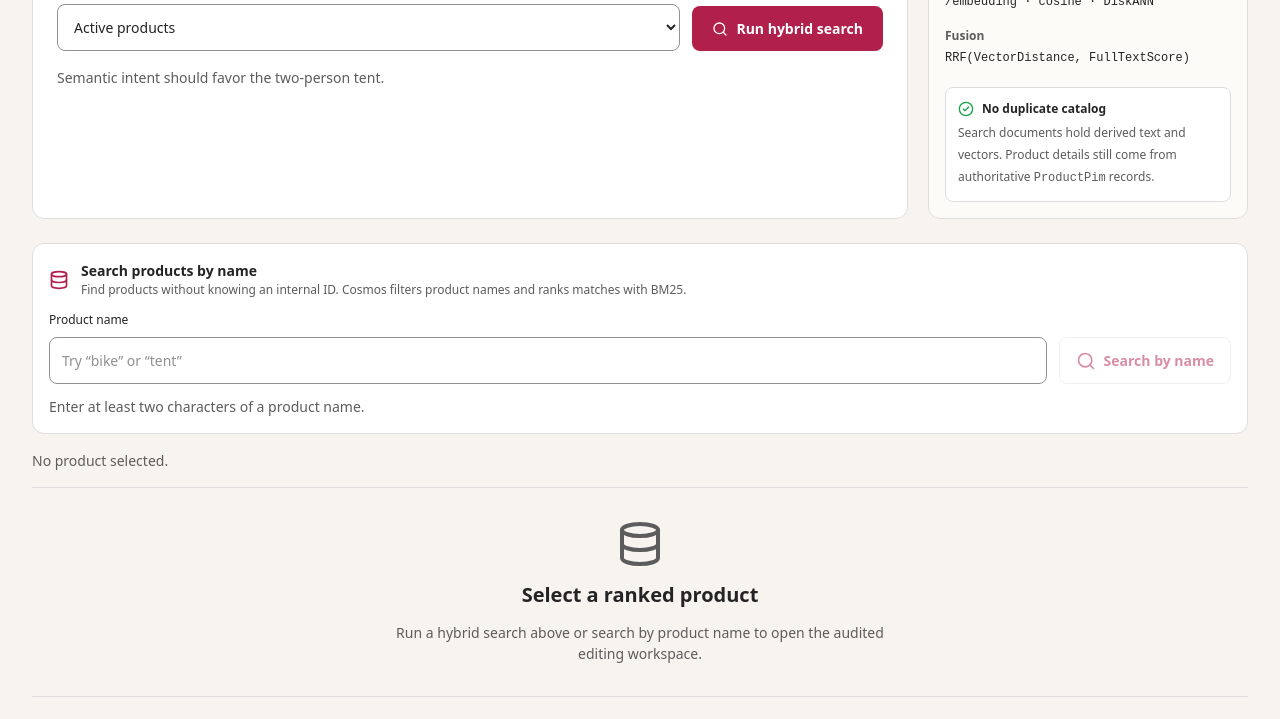
App › blocks editing on a version conflict until an authoritative reload
This screenshot has width=1280, height=719.
(page scrolled)
Type "Test product" into the field labelled "Product name" at {"x": 548, "y": 360}, box [49, 337, 1047, 384]
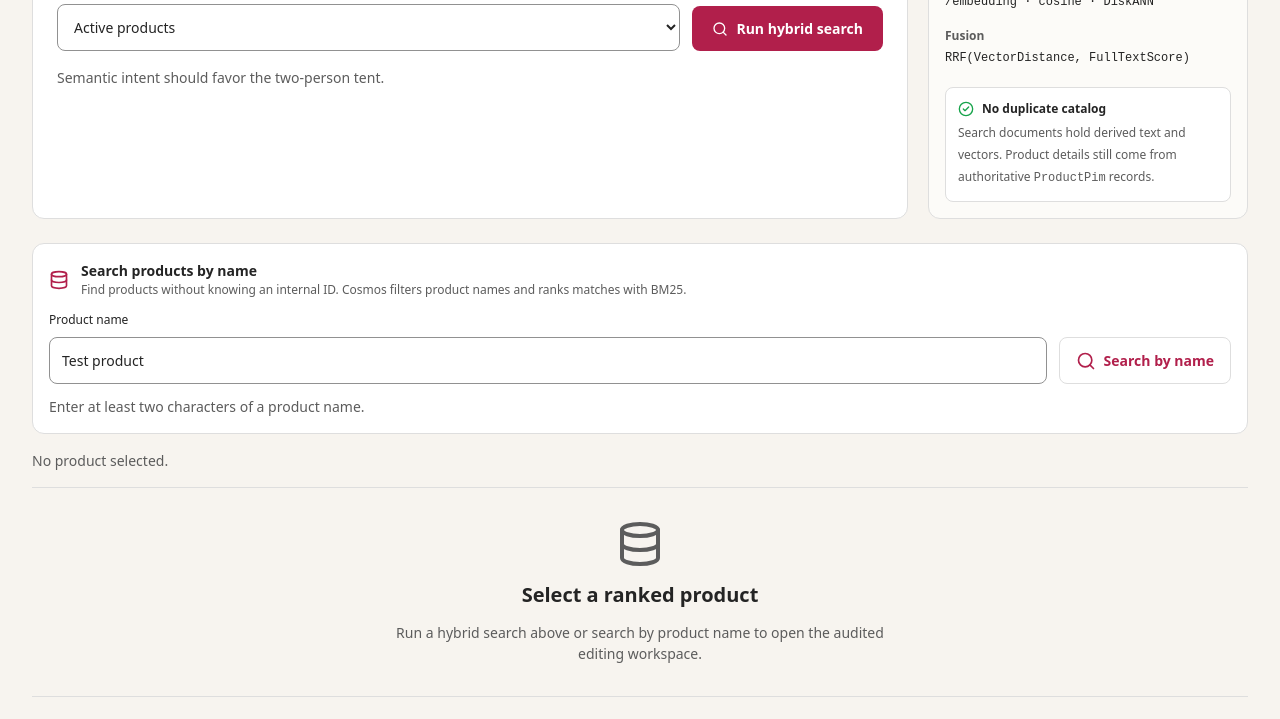
Submit the form "Product name", box [49, 311, 1231, 384]
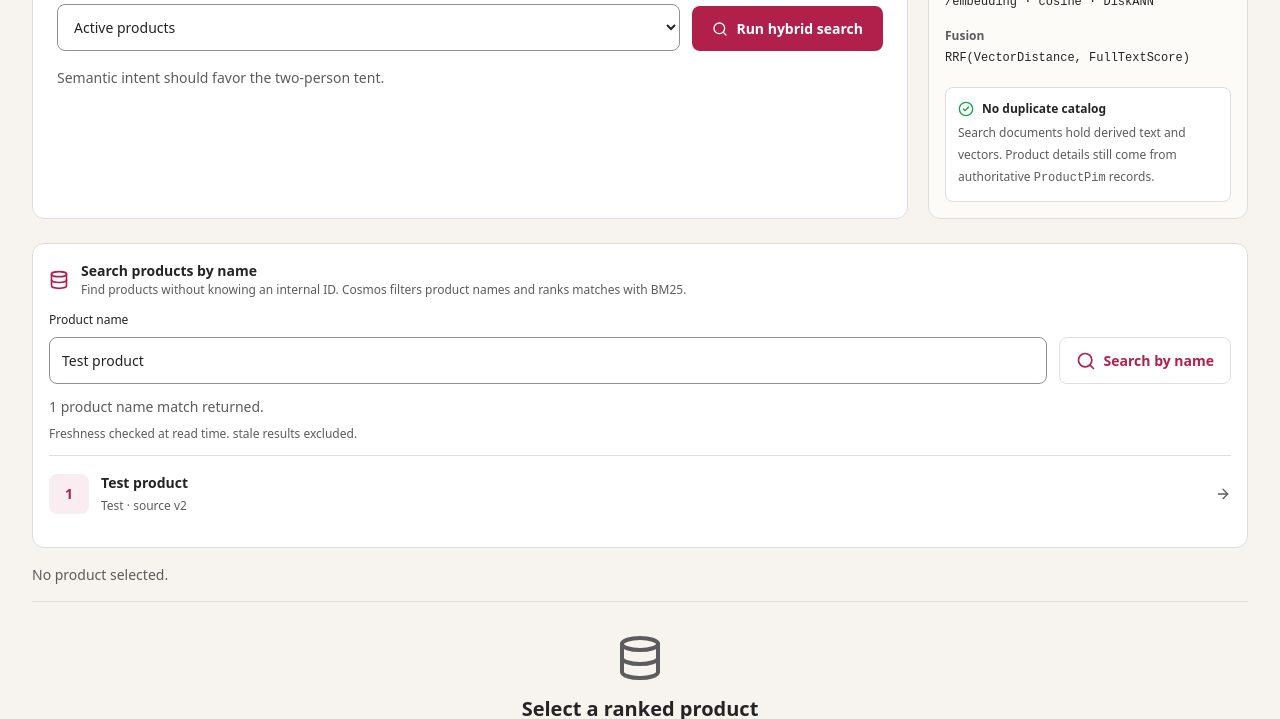
Click the button "1 Test product Test · source v2" at {"x": 69, "y": 494}, box [49, 456, 1231, 531]
(page scrolled)
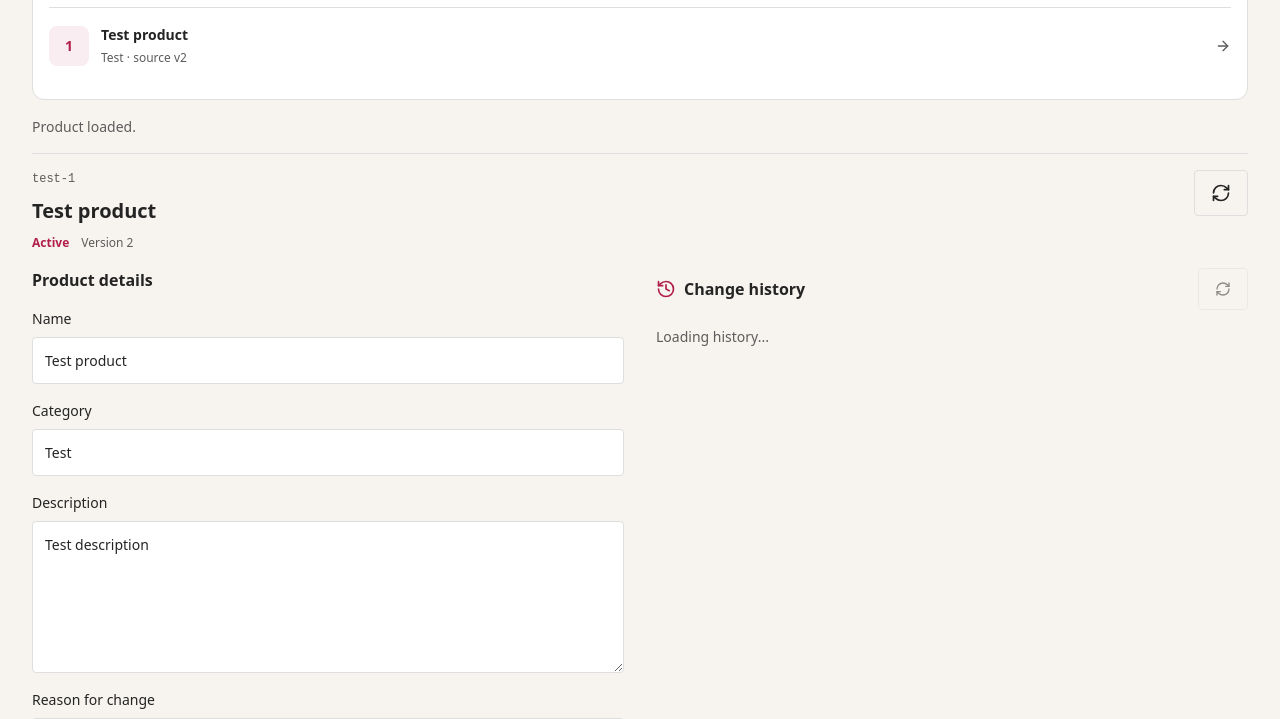
Check: the heading "Test product" is shown, box [32, 196, 156, 226]
Replace the text in the field labelled "Name" with "New name" at {"x": 328, "y": 360}, box [32, 337, 624, 384]
(page scrolled)
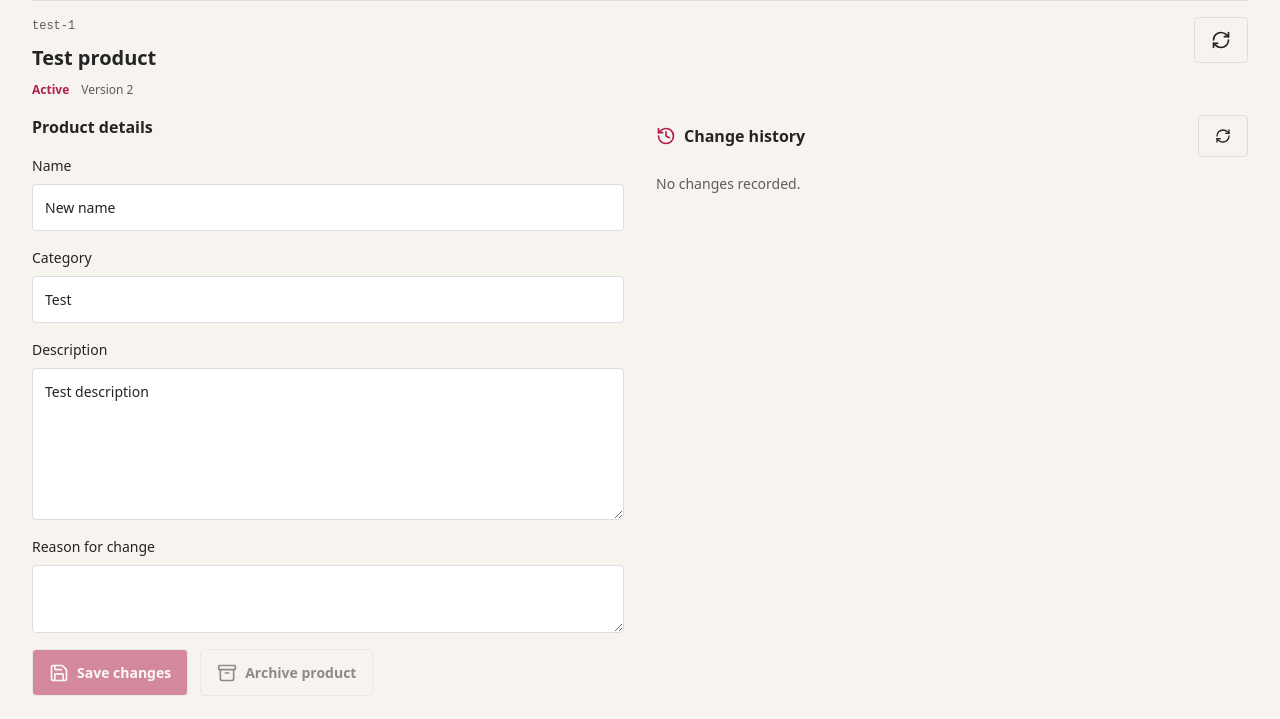
Type "Correction" into the text box labelled "Reason for change" at {"x": 328, "y": 599}, box [32, 565, 624, 633]
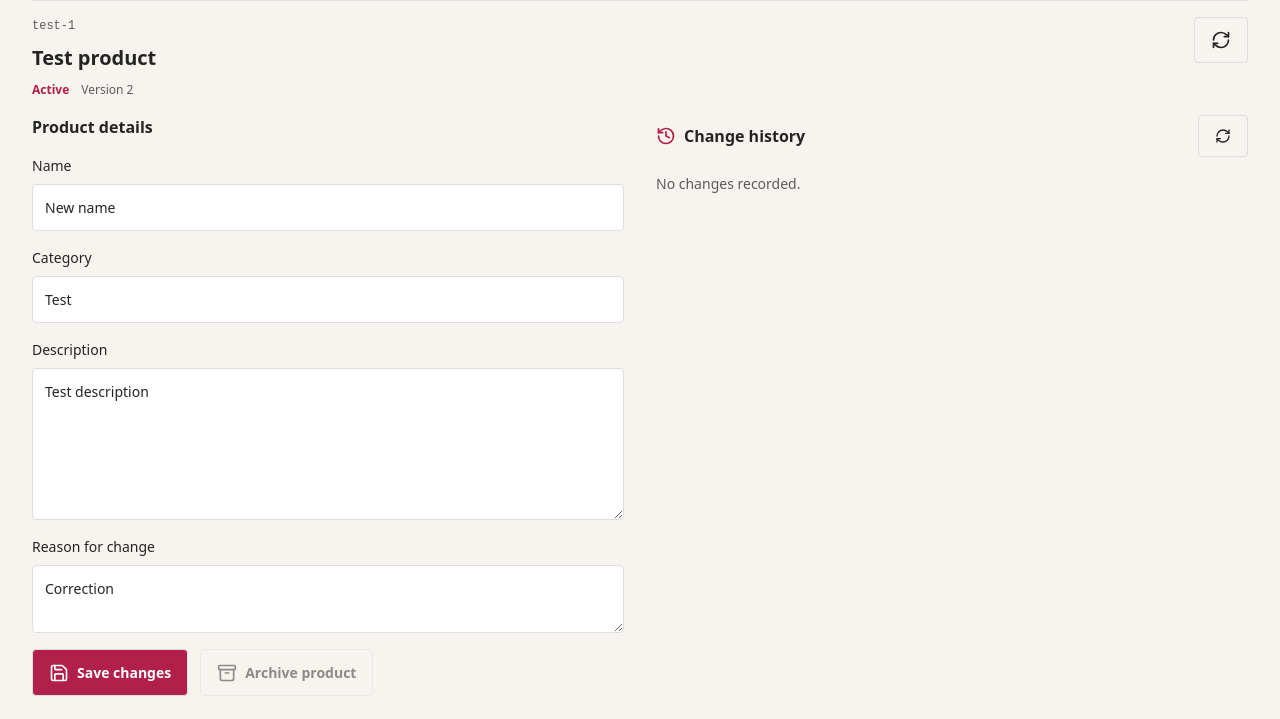
Click the button "Save changes" at {"x": 110, "y": 672}, box [32, 649, 188, 696]
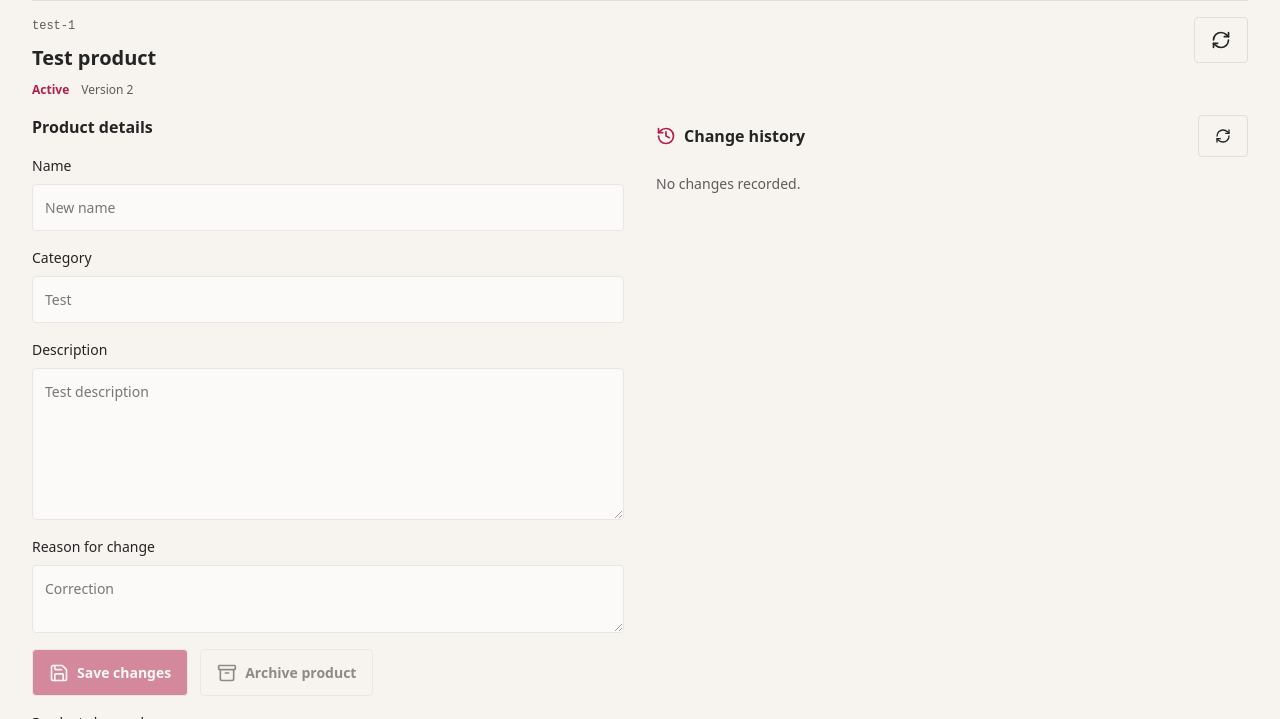
Check: the button named "Reload product" is enabled, box [1194, 17, 1248, 63]
Check: the button "Save changes" is disabled, box [32, 649, 188, 696]
